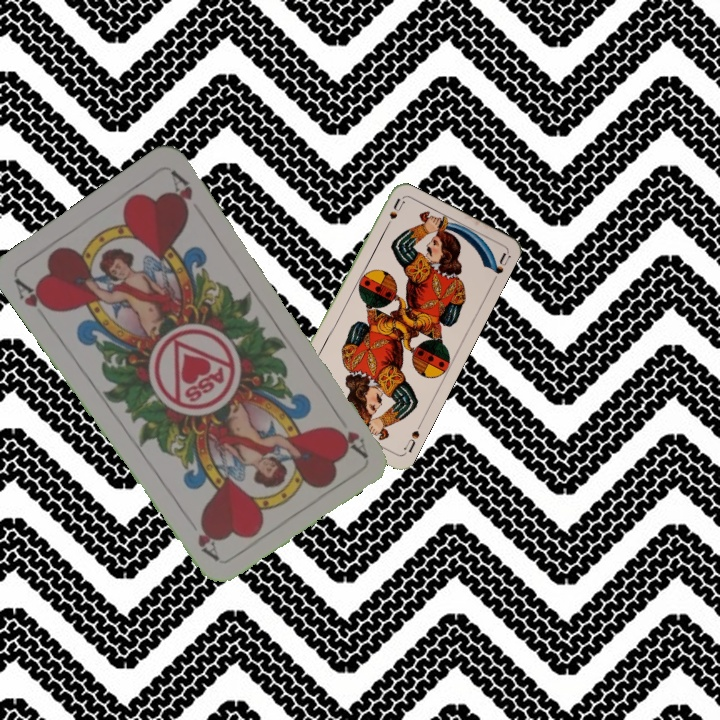HA: (329, 406, 369, 459), (10, 274, 58, 316)
SU: (380, 195, 406, 234), (400, 426, 422, 456)
